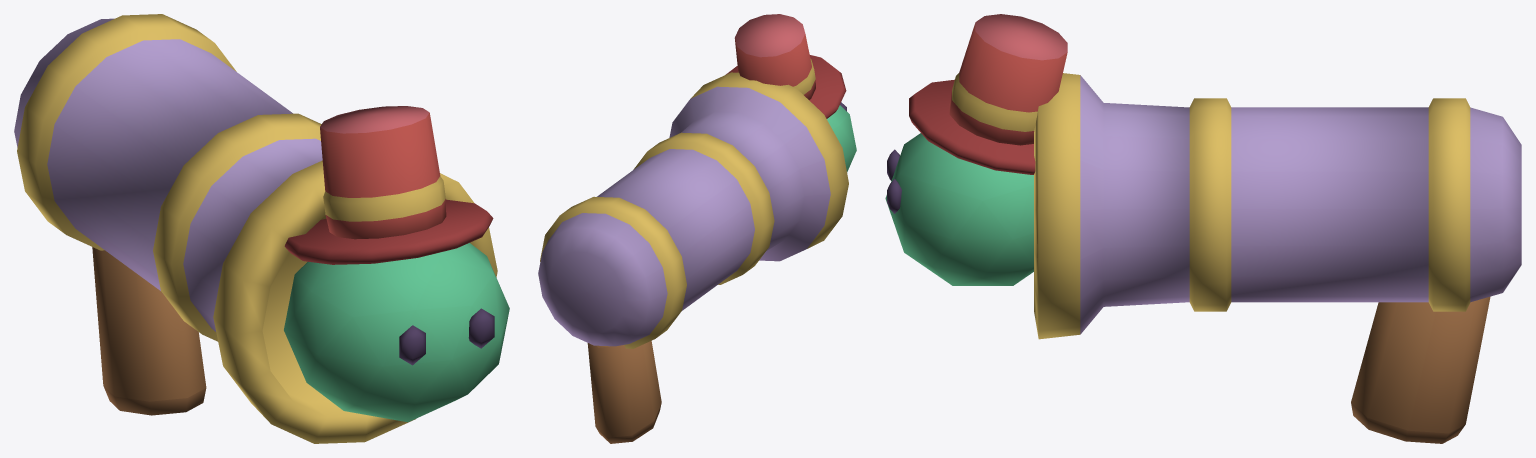
File: pvp_fun_hat_launcher.fbx
3 renders of one model, left to right at view 1: azimuth 30°, elevation 25°; view 2: azimuth 150°, elevation 25°; view 3: azimuth 270°, elevation 25°, orthographic. The views are drawn at different scales.
Visible parts, largest first — view 1: pvp_fun_hat_launcher; view 2: pvp_fun_hat_launcher; view 3: pvp_fun_hat_launcher.
Boxes of the visible parts, x1,y1,x2,y2 form: pvp_fun_hat_launcher: (14,14,509,443); pvp_fun_hat_launcher: (538,14,856,443); pvp_fun_hat_launcher: (885,14,1521,443).
Size of the model in its own units: 1.16 by 1.94 by 2.74.
